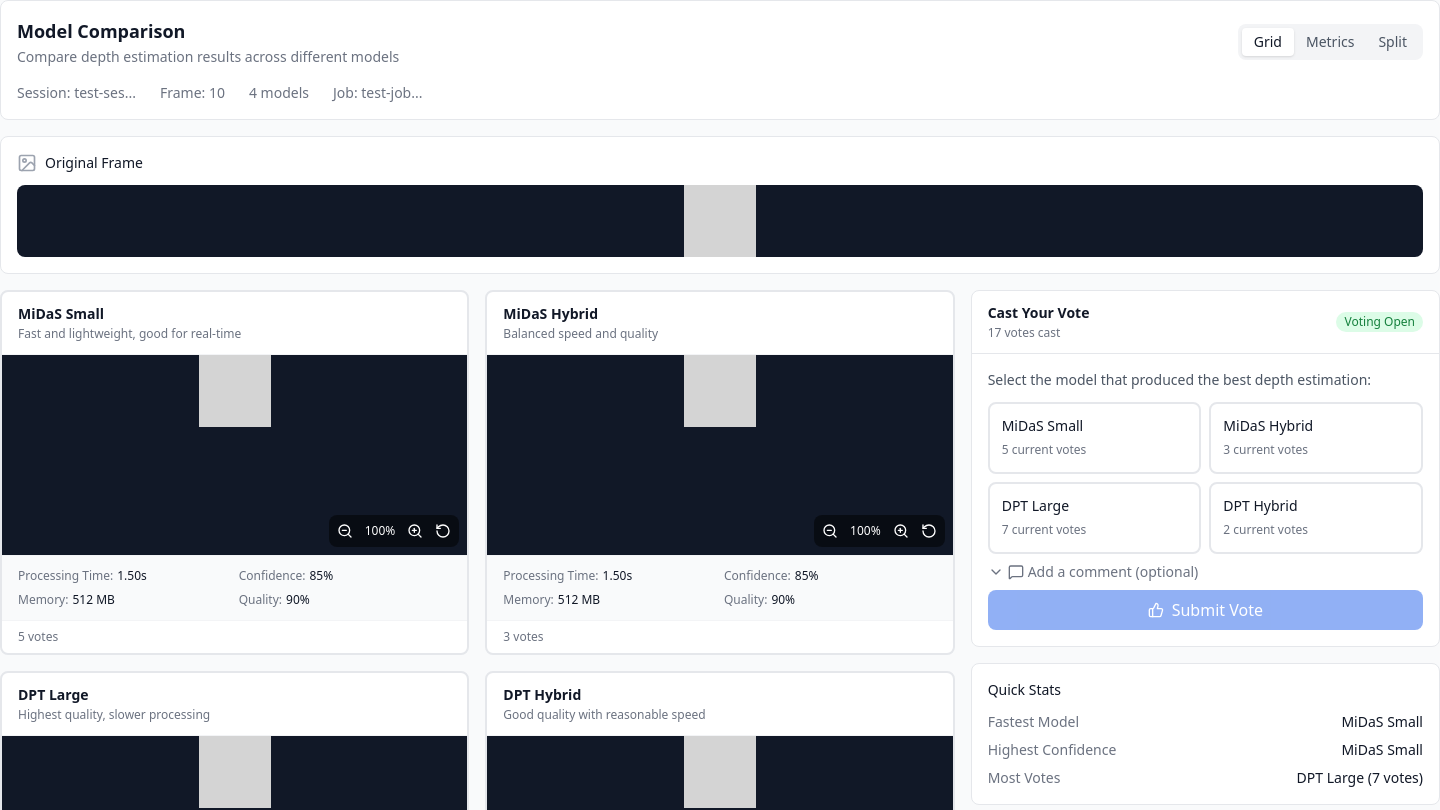
Scenario: ModelComparisonView › view mode tabs › should switch to Split view when tab is clicked
Click the tab "Split": (1393, 42) left=1366, top=28, right=1419, bottom=56
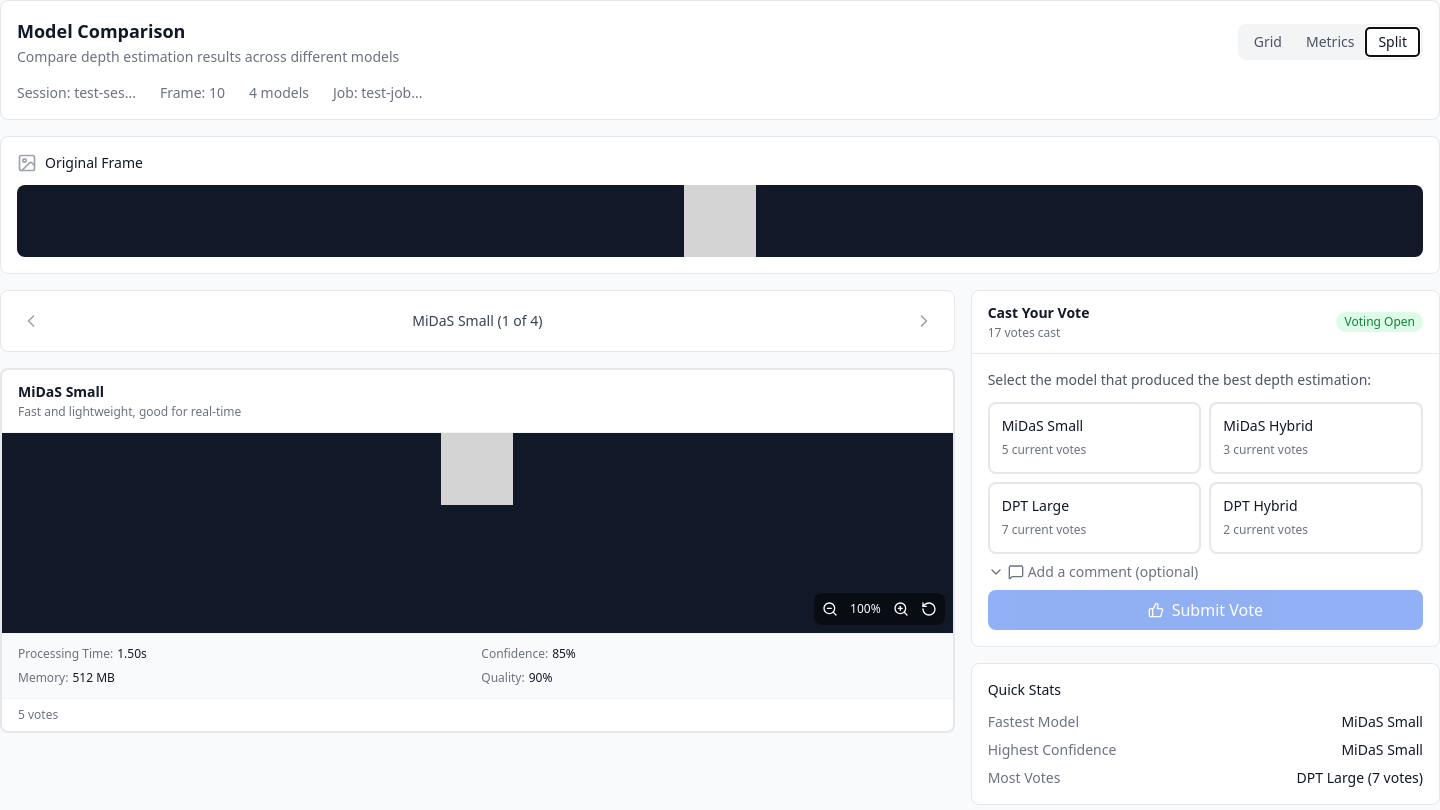
Check: the button named "Previous model" is shown, box left=13, top=303, right=49, bottom=339
Check: the button named "Next model" is shown, box left=906, top=303, right=942, bottom=339
